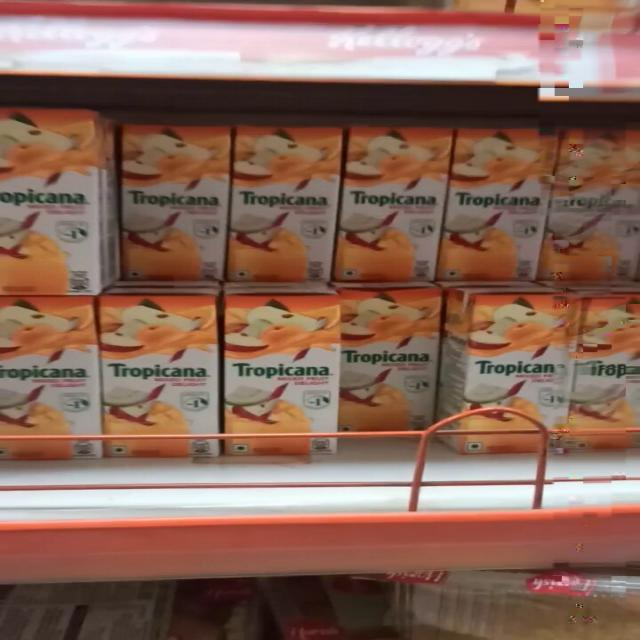Tropicana: (106, 302, 220, 461), (341, 122, 442, 296), (462, 295, 572, 453), (231, 302, 338, 461), (237, 123, 335, 290), (124, 125, 226, 285), (450, 123, 540, 287), (338, 300, 438, 440)
